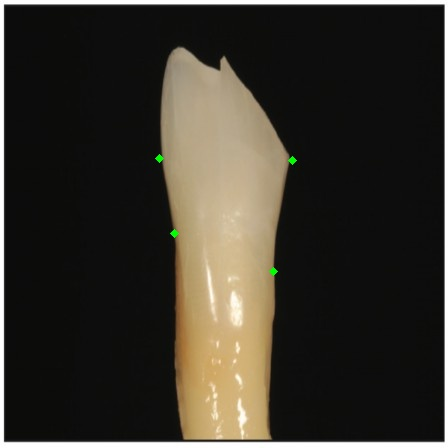coin_1: (273, 271, 293, 291)
coin_2: (292, 160, 312, 180)
coin_3: (174, 233, 194, 253)
coin_4: (159, 158, 179, 178)
